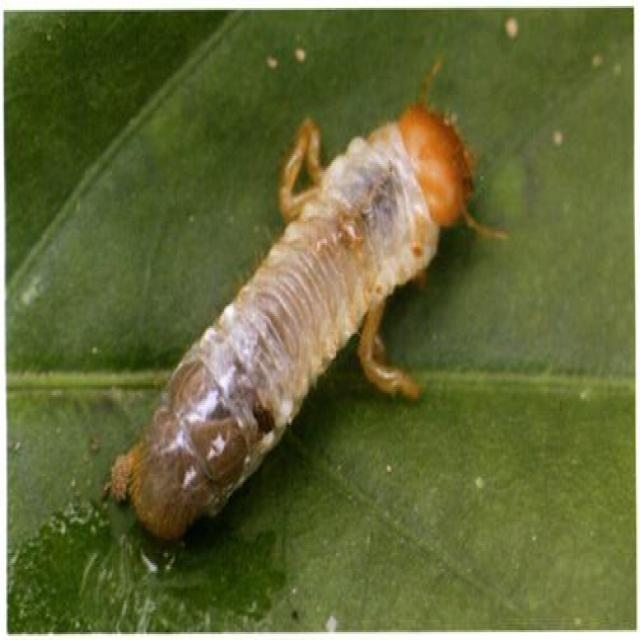Grub-Adult-: (89, 90, 480, 562)
